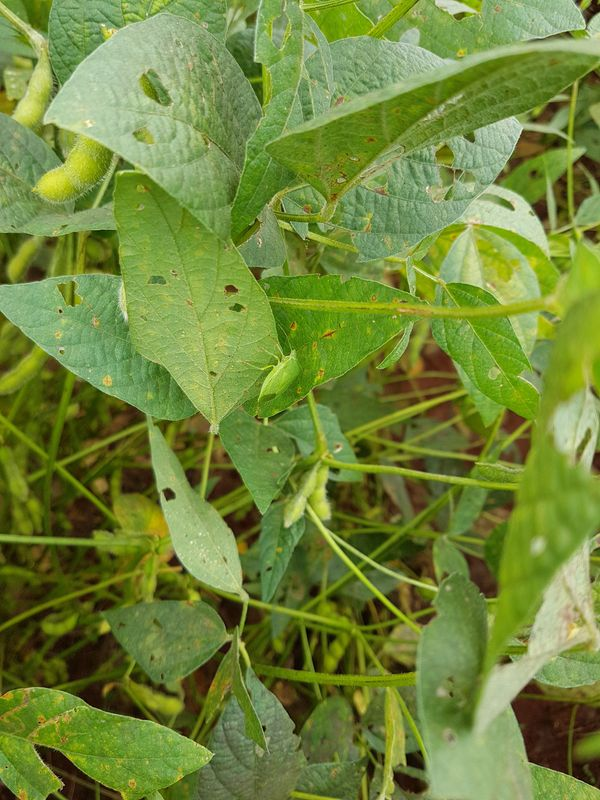Nezara_viridula_adulto: (239, 330, 316, 419)
